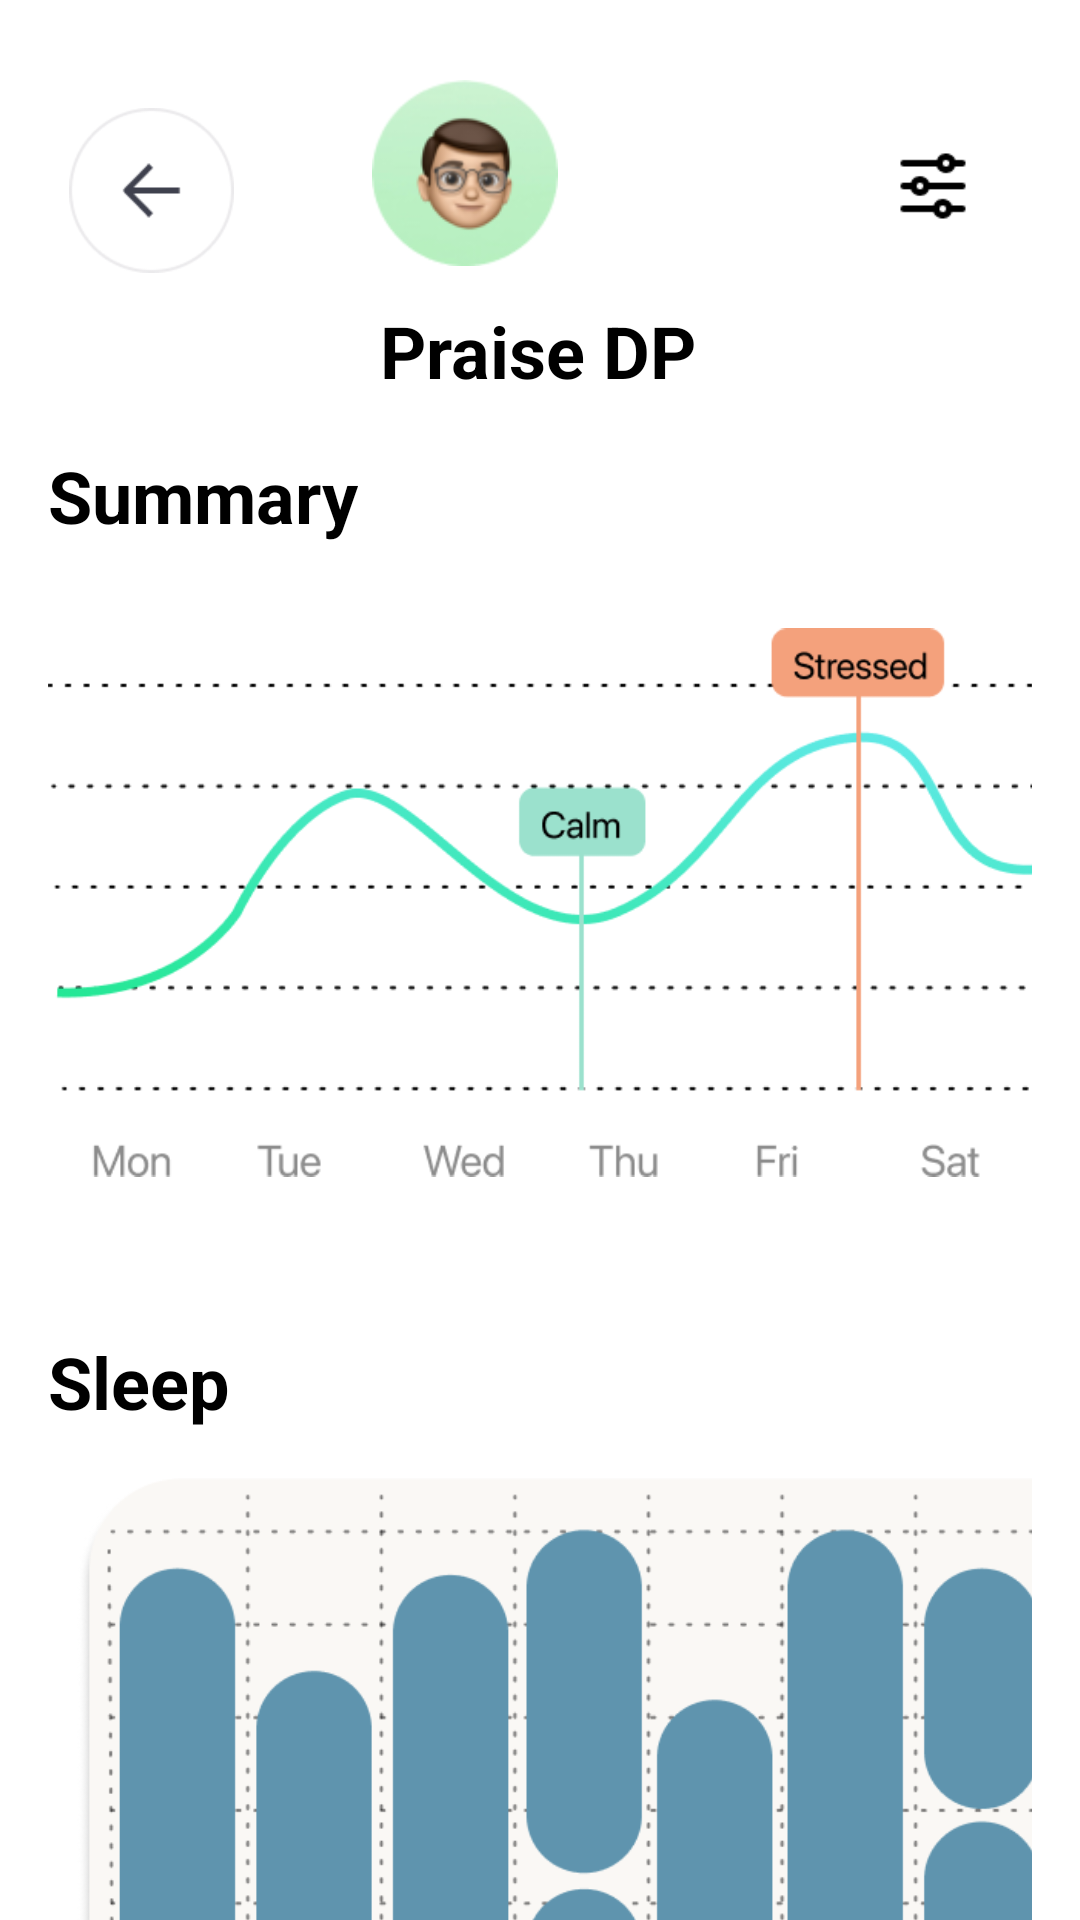

Icon click points for this 1080×1920 phone screenshot, format (x,y):
Profile icon: (465,173)
Settings: (933,186)
